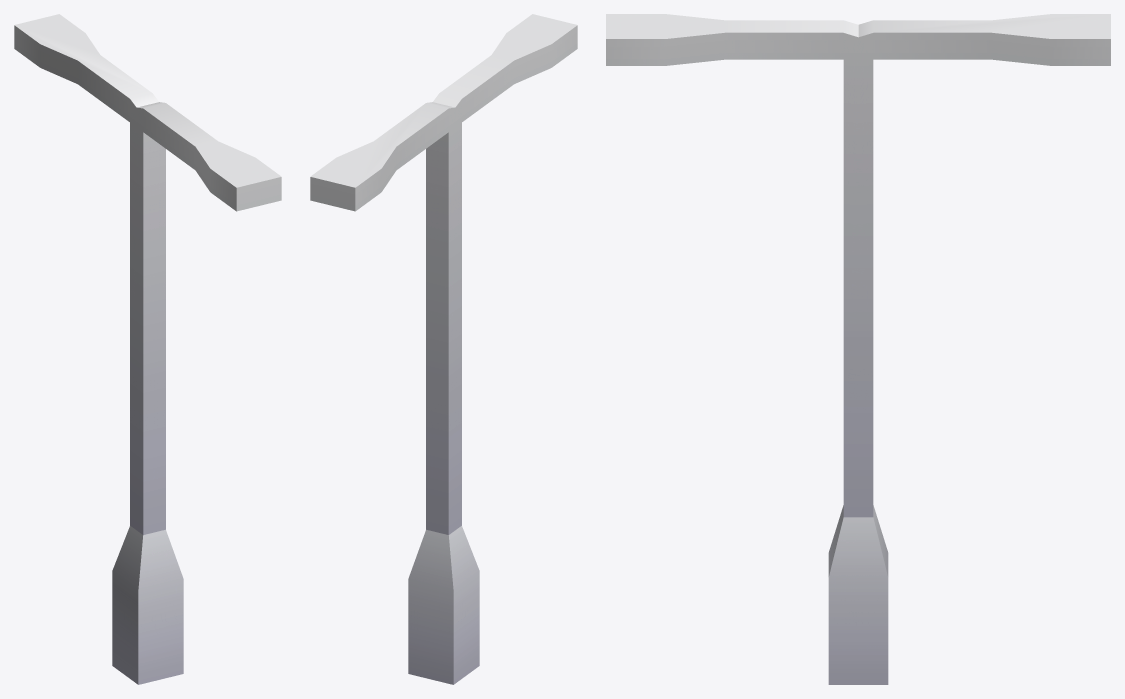
The model's file is light-square-double.draco.glb.
3 views of the same model, side by side, from view 1: azimuth 30°, elevation 25°; view 2: azimuth 150°, elevation 25°; view 3: azimuth 270°, elevation 25° (orthographic). The views are drawn at different scales.
Parts seen in each view (by area): view 1: light-square-double; view 2: light-square-double; view 3: light-square-double.
Boxes of the visible parts, box(x1,y1,x2,y2) form: light-square-double: box(14, 14, 281, 684); light-square-double: box(310, 14, 577, 684); light-square-double: box(606, 14, 1110, 684).
Bounding box in the file's own units: 0.05 × 0.6 × 0.425.
Materials: 1 (1 with a texture image).
